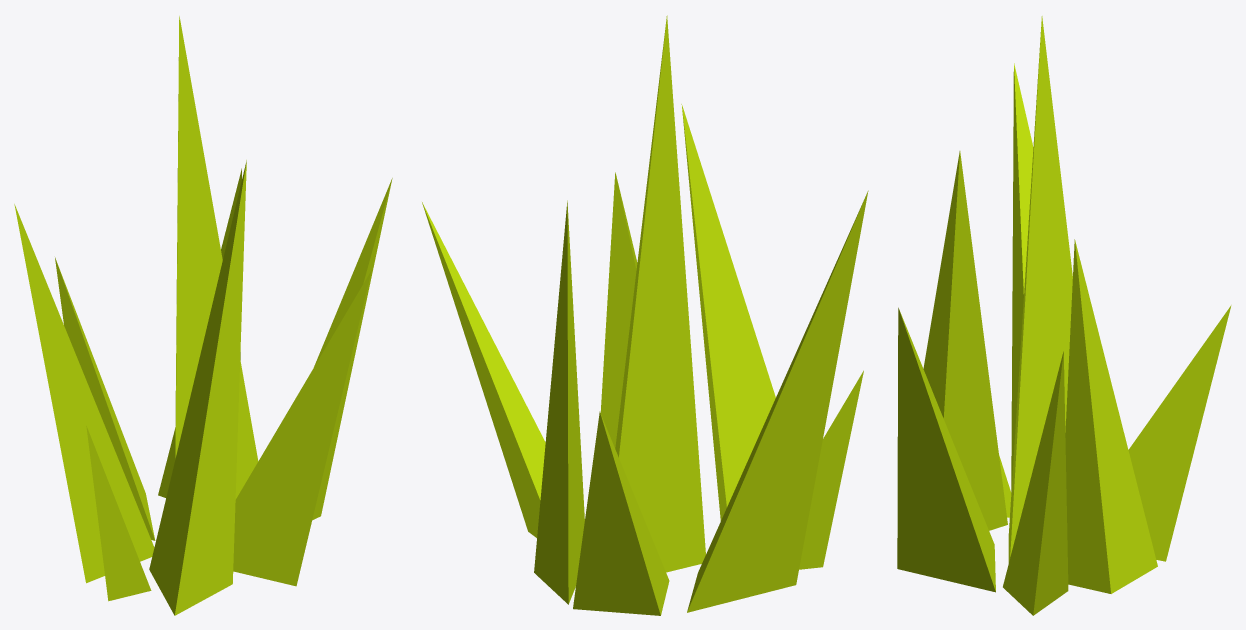
The model's file is grass3.fbx.
3 renders of one model, left to right at view 1: azimuth 30°, elevation 25°; view 2: azimuth 150°, elevation 25°; view 3: azimuth 270°, elevation 25°, orthographic. The views are drawn at different scales.
Parts seen in each view (by area): view 1: Cone; view 2: Cone; view 3: Cone.
Part boxes in pixels (x1=…): Cone: x1=14, y1=16, x2=392, y2=615; Cone: x1=422, y1=15, x2=868, y2=615; Cone: x1=897, y1=16, x2=1231, y2=615.
Bounding box in the file's own units: 98.6 × 124 × 70.47.
